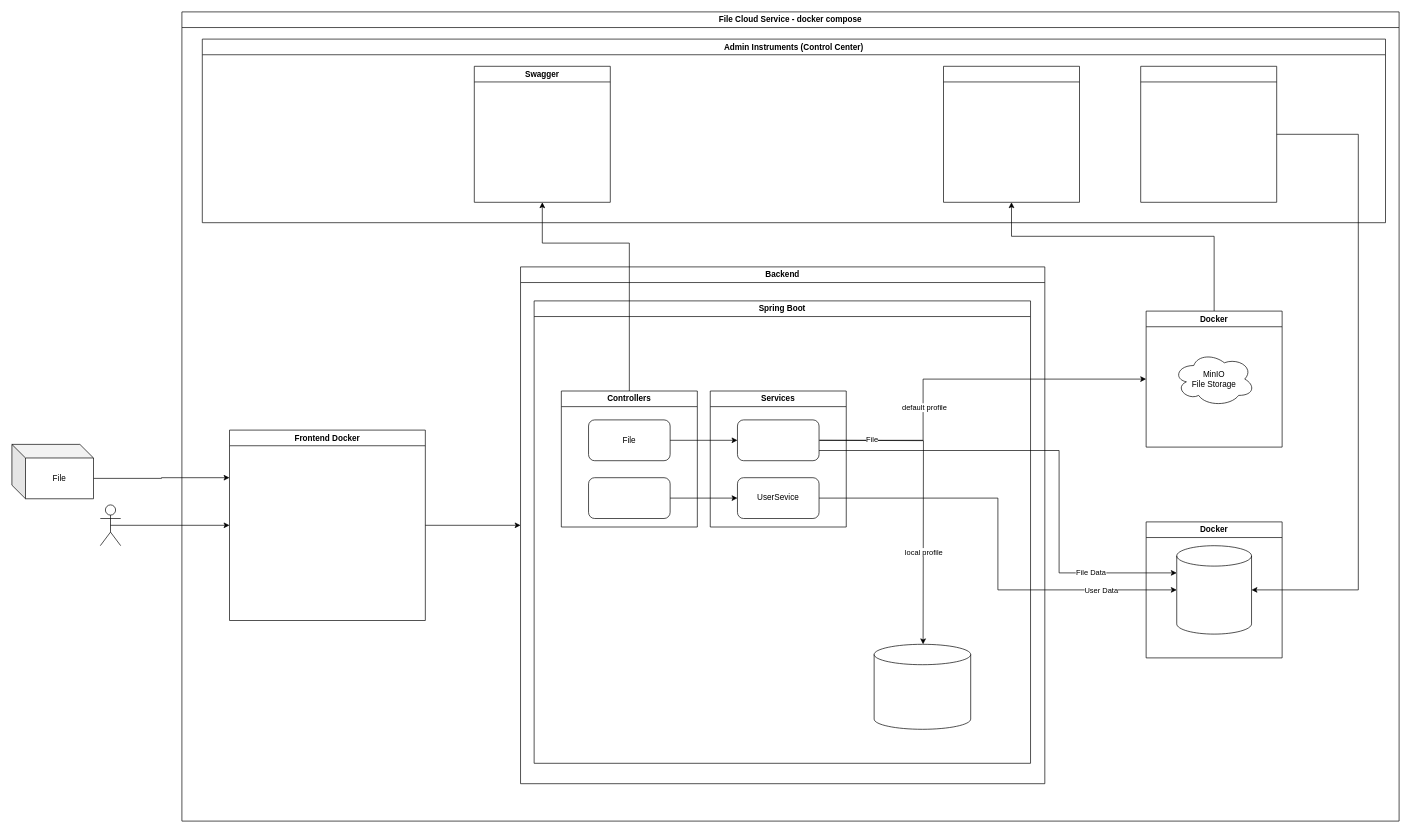
The diagram is 1411 pixels wide and 833 high, and some of its shapes have lost their labels. The centre of each missing label's shape, as x and y in pixels:
"Actor" belongs at [110,525].
"Authentication" belongs at [629,497].
"Local System Storage" belongs at [922,686].
"Min.io admin panel" belongs at [1011,134].
"pgadmin4 Docker" belongs at [1208,134].
"PostgreSQL" belongs at [1214,589].
"StorageService" belongs at [778,440].
